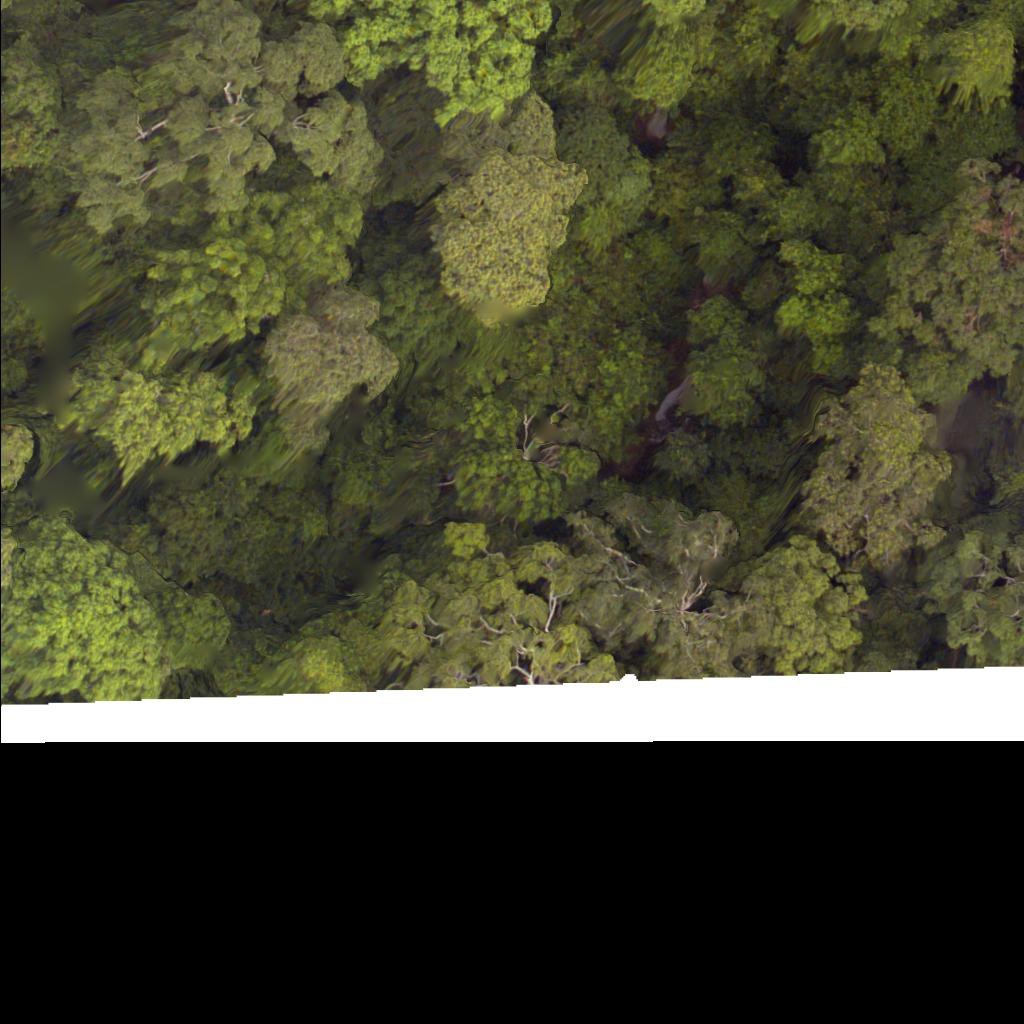crown: (49, 0, 392, 244), (123, 191, 368, 373), (873, 167, 1023, 416), (792, 368, 969, 567), (294, 0, 545, 134), (427, 157, 583, 339), (39, 347, 272, 462), (0, 424, 34, 512), (0, 537, 13, 608)
